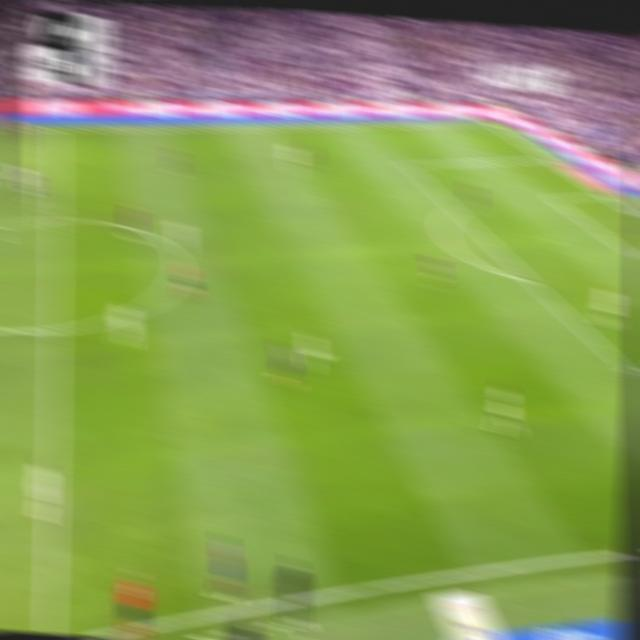bigarea_bottom_inner: (619, 360, 640, 384)
bigarea_top_inner: (399, 155, 417, 172)
bottom_arc_area_intersection: (519, 270, 538, 288)
corner: (481, 117, 498, 127)
halfcircle_bottom: (42, 312, 66, 345)
halfcircle_top: (43, 204, 67, 234)
midline_top_intersection: (47, 120, 64, 137)
smallarea_top_inner: (546, 192, 560, 203)
top_arc_area_intersection: (446, 199, 464, 218)
